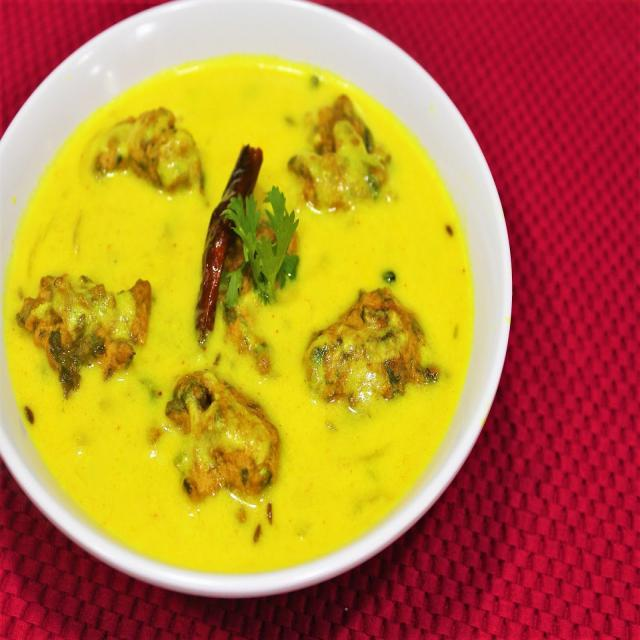Kadhi Pakora: (0, 56, 470, 566)
